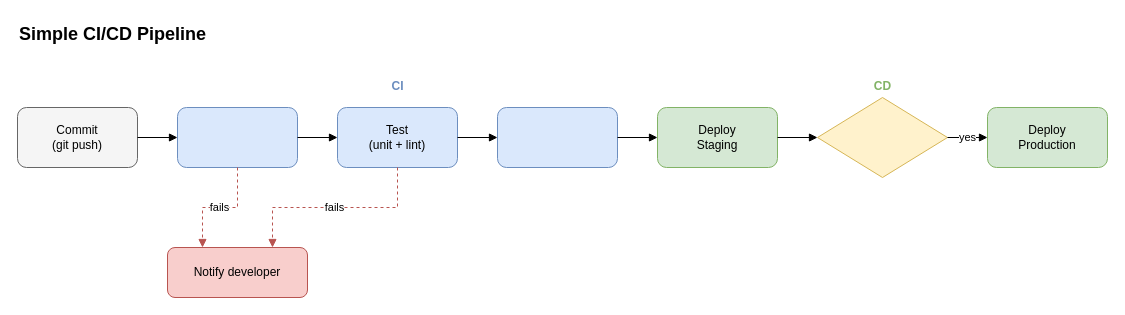
Image size: 1125x315. Some labels were removed from this diagram. The centre of each missing label's shape, as x and y in pixels:
"Approved?" belongs at (x=882, y=137).
"Build (compile)" belongs at (x=237, y=137).
"Package (Docker image)" belongs at (x=557, y=137).
